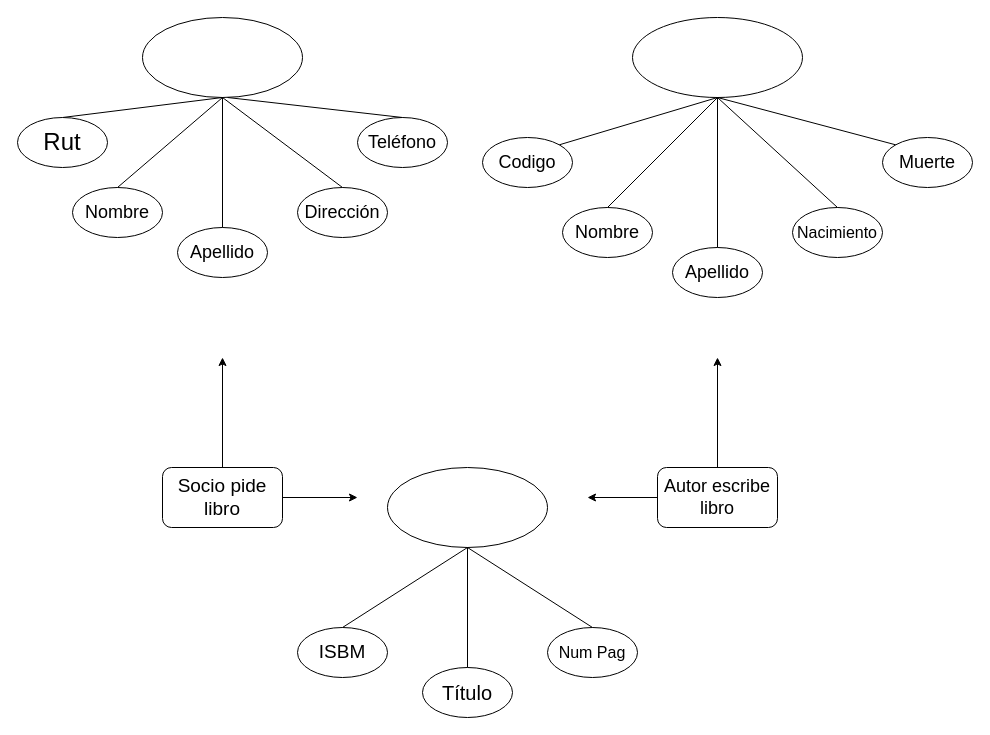
This 990x735 diagram has some shape labels left out. The centre of each missing label's shape, as x and y in pixels:
Autor: the point at 717,57
Libro: the point at 467,507
Socio: the point at 222,57
